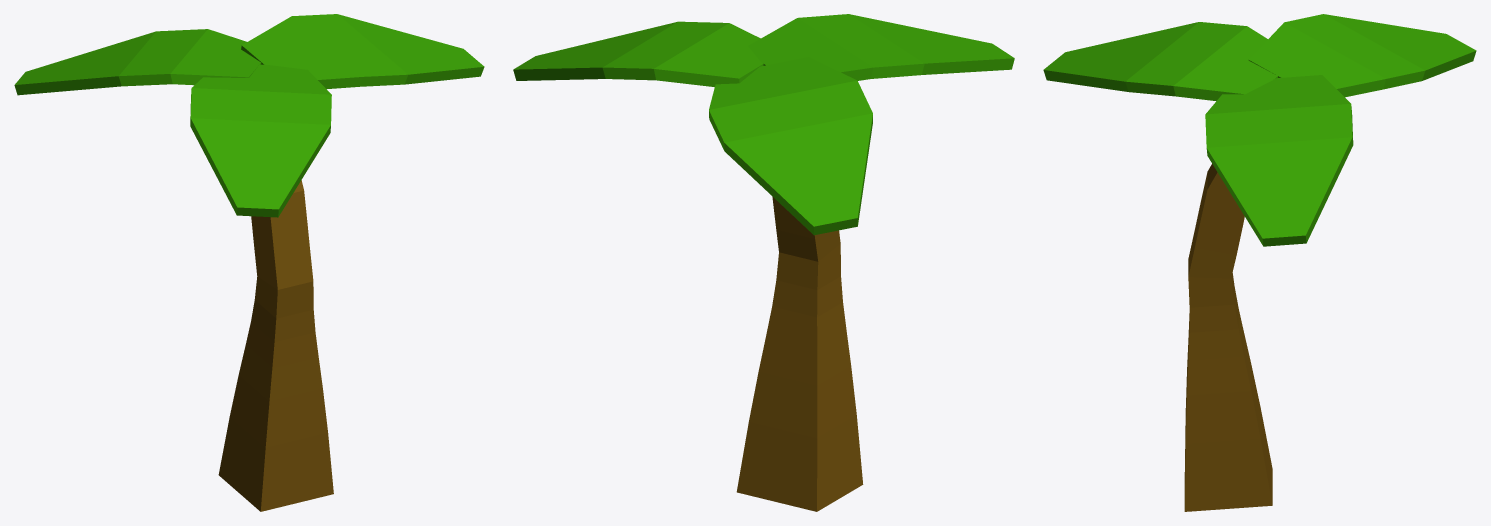
Rendered from PalmTree.glb.
3 renders of one model, left to right at view 1: azimuth 30°, elevation 25°; view 2: azimuth 150°, elevation 25°; view 3: azimuth 270°, elevation 25°, orthographic. The views are drawn at different scales.
Visible parts, largest first — view 1: Vert.001, Cube.002, Cube, Cube.001; view 2: Vert.001, Cube.001, Cube.002, Cube; view 3: Vert.001, Cube, Cube.002, Cube.001.
Part boxes in pixels (left/top/right/bottom): Vert.001: left=218, top=180, right=333, bottom=511; Cube.002: left=190, top=64, right=331, bottom=217; Cube: left=241, top=14, right=484, bottom=89; Cube.001: left=14, top=29, right=261, bottom=95; Vert.001: left=736, top=196, right=863, bottom=511; Cube.001: left=709, top=57, right=872, bottom=235; Cube.002: left=748, top=14, right=1014, bottom=80; Cube: left=513, top=21, right=763, bottom=86; Vert.001: left=1184, top=164, right=1272, bottom=511; Cube: left=1205, top=75, right=1353, bottom=246; Cube.002: left=1043, top=22, right=1277, bottom=101; Cube.001: left=1248, top=14, right=1476, bottom=97.
Size of the model in its own units: 5.38 by 5.57 by 5.08.
